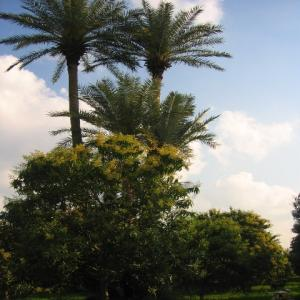palm tree: (0, 0, 142, 150)
